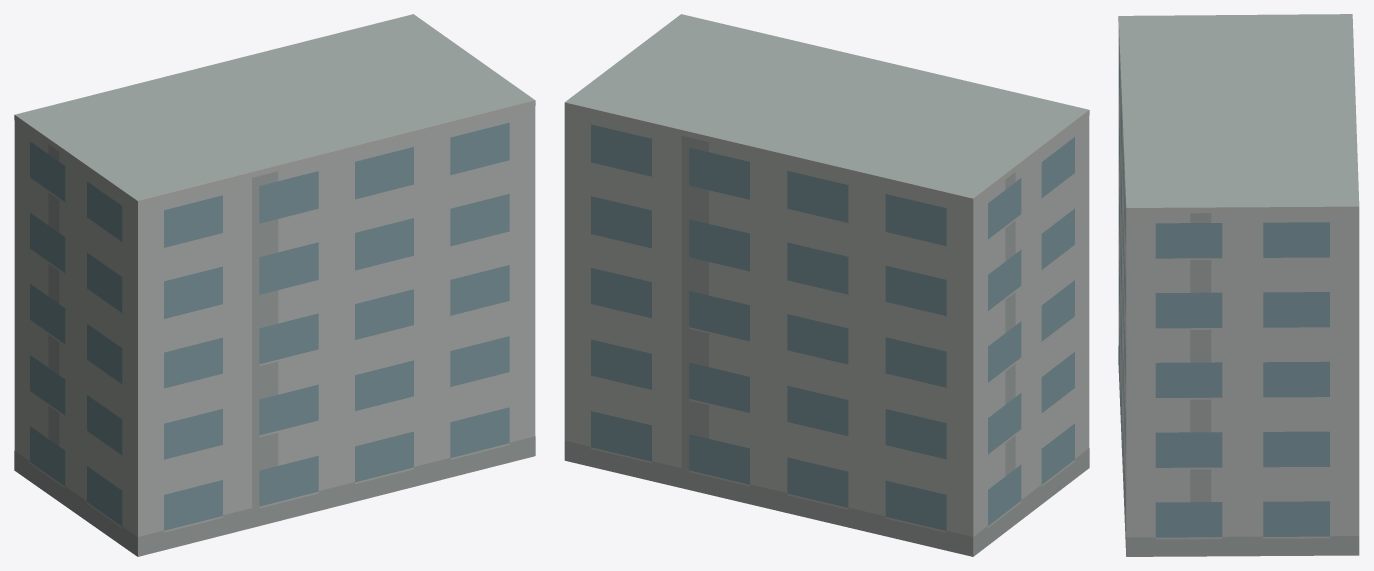
File: survey-upis-32558827.glb
3 views of the same model, side by side, from view 1: azimuth 30°, elevation 25°; view 2: azimuth 150°, elevation 25°; view 3: azimuth 270°, elevation 25° (orthographic). The views are drawn at different scales.
Parts seen in each view (by area): view 1: survey-upis-32558827.tmp; view 2: survey-upis-32558827.tmp; view 3: survey-upis-32558827.tmp.
Boxes of the visible parts, left/top/right/bottom form: survey-upis-32558827.tmp: left=14, top=14, right=535, bottom=556; survey-upis-32558827.tmp: left=564, top=14, right=1089, bottom=556; survey-upis-32558827.tmp: left=1118, top=14, right=1359, bottom=556.
Size of the model in its own units: 18.2 by 15.25 by 9.55.
